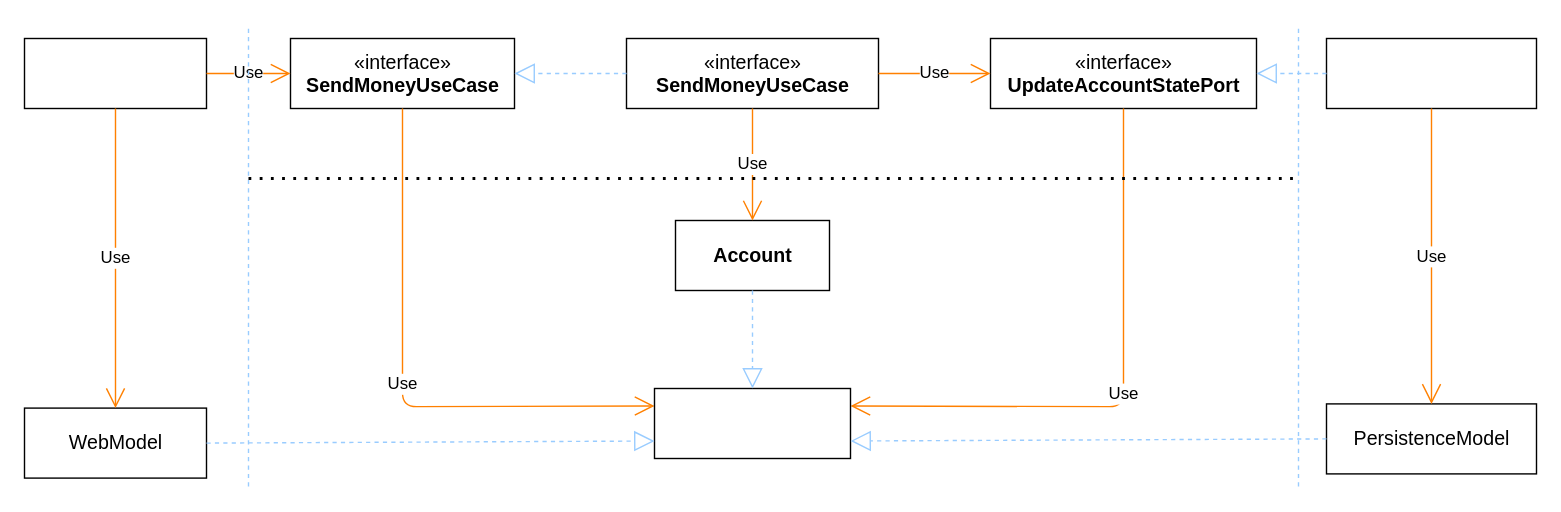
The diagram is 1561 pixels wide and 512 high, and some of its shapes have lost their labels. The box of each missing label's shape, as (x1, y1, x2, y2) in pixels:
Account PersistenceAdapter: (1325, 37, 1536, 108)
AccountController: (23, 37, 206, 108)
AccountState: (653, 387, 850, 458)
